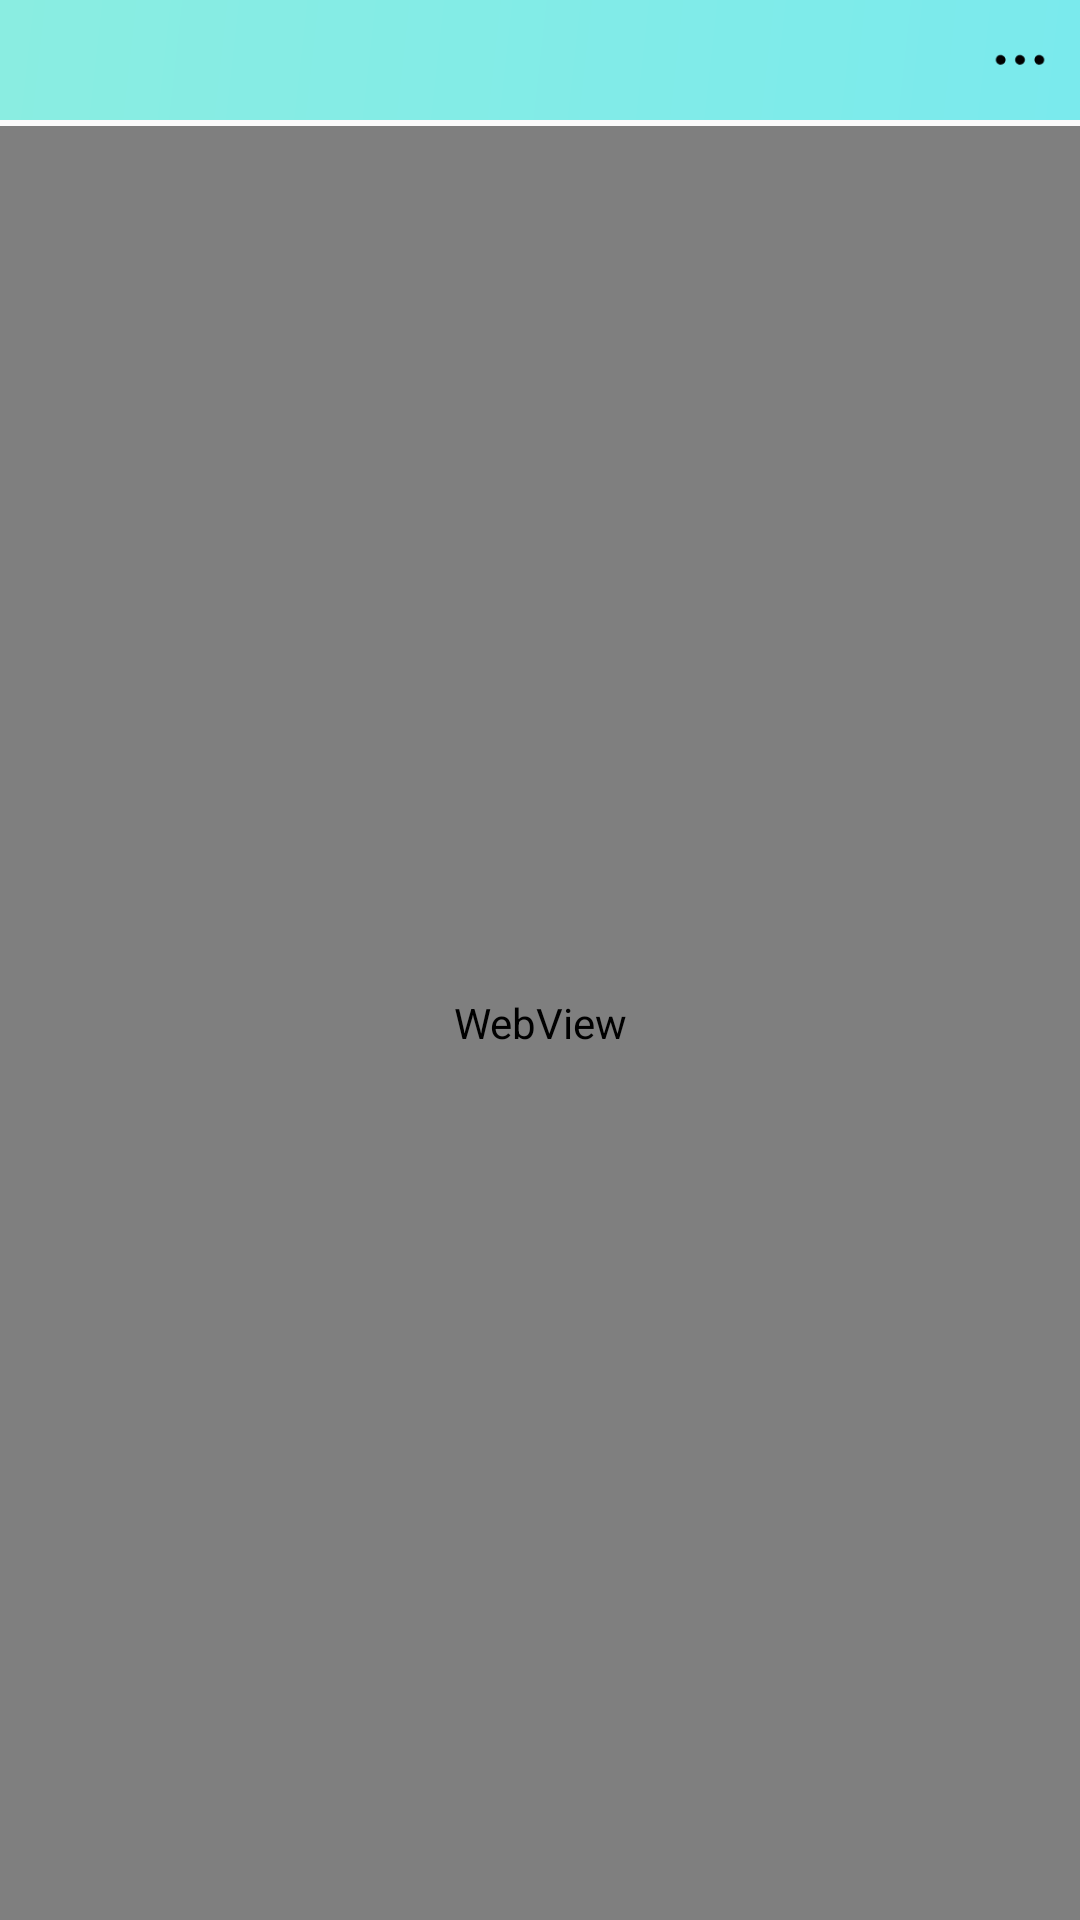

Point at icon controls on the screen. Image size 1080×1920, points as [x,y].
more: [1020,59]
